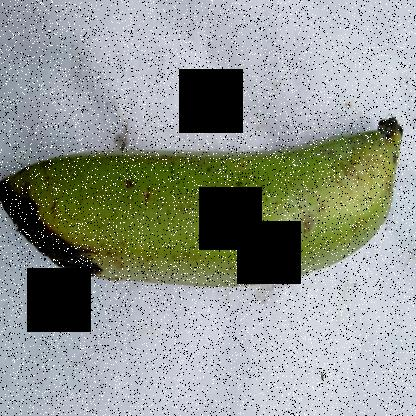unripe: (89, 79, 415, 325)
